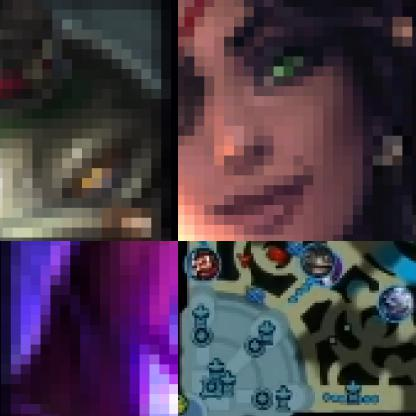Graves: (184, 249, 222, 282)
Jinx: (312, 254, 344, 286)
Malzahar: (0, 241, 177, 415)
Samira: (178, 0, 415, 240)
Tahm Kench: (0, 0, 177, 240), (301, 243, 335, 278)
Volibear: (379, 285, 415, 322)
